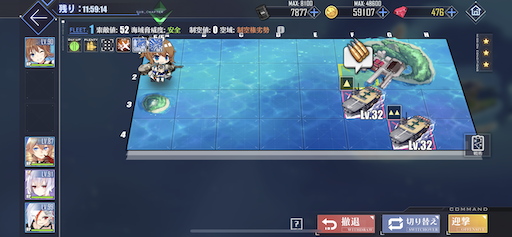lv1: (386, 100, 441, 155), (336, 75, 385, 121)
